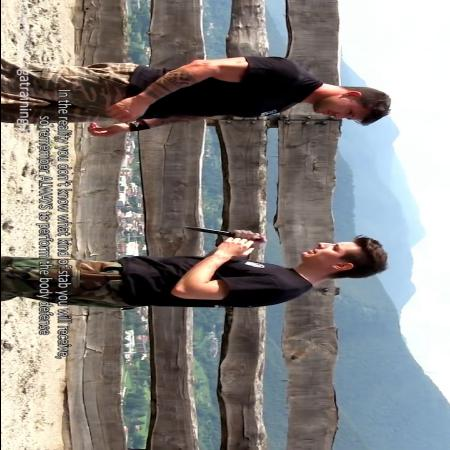long weapon: (180, 224, 268, 244)
